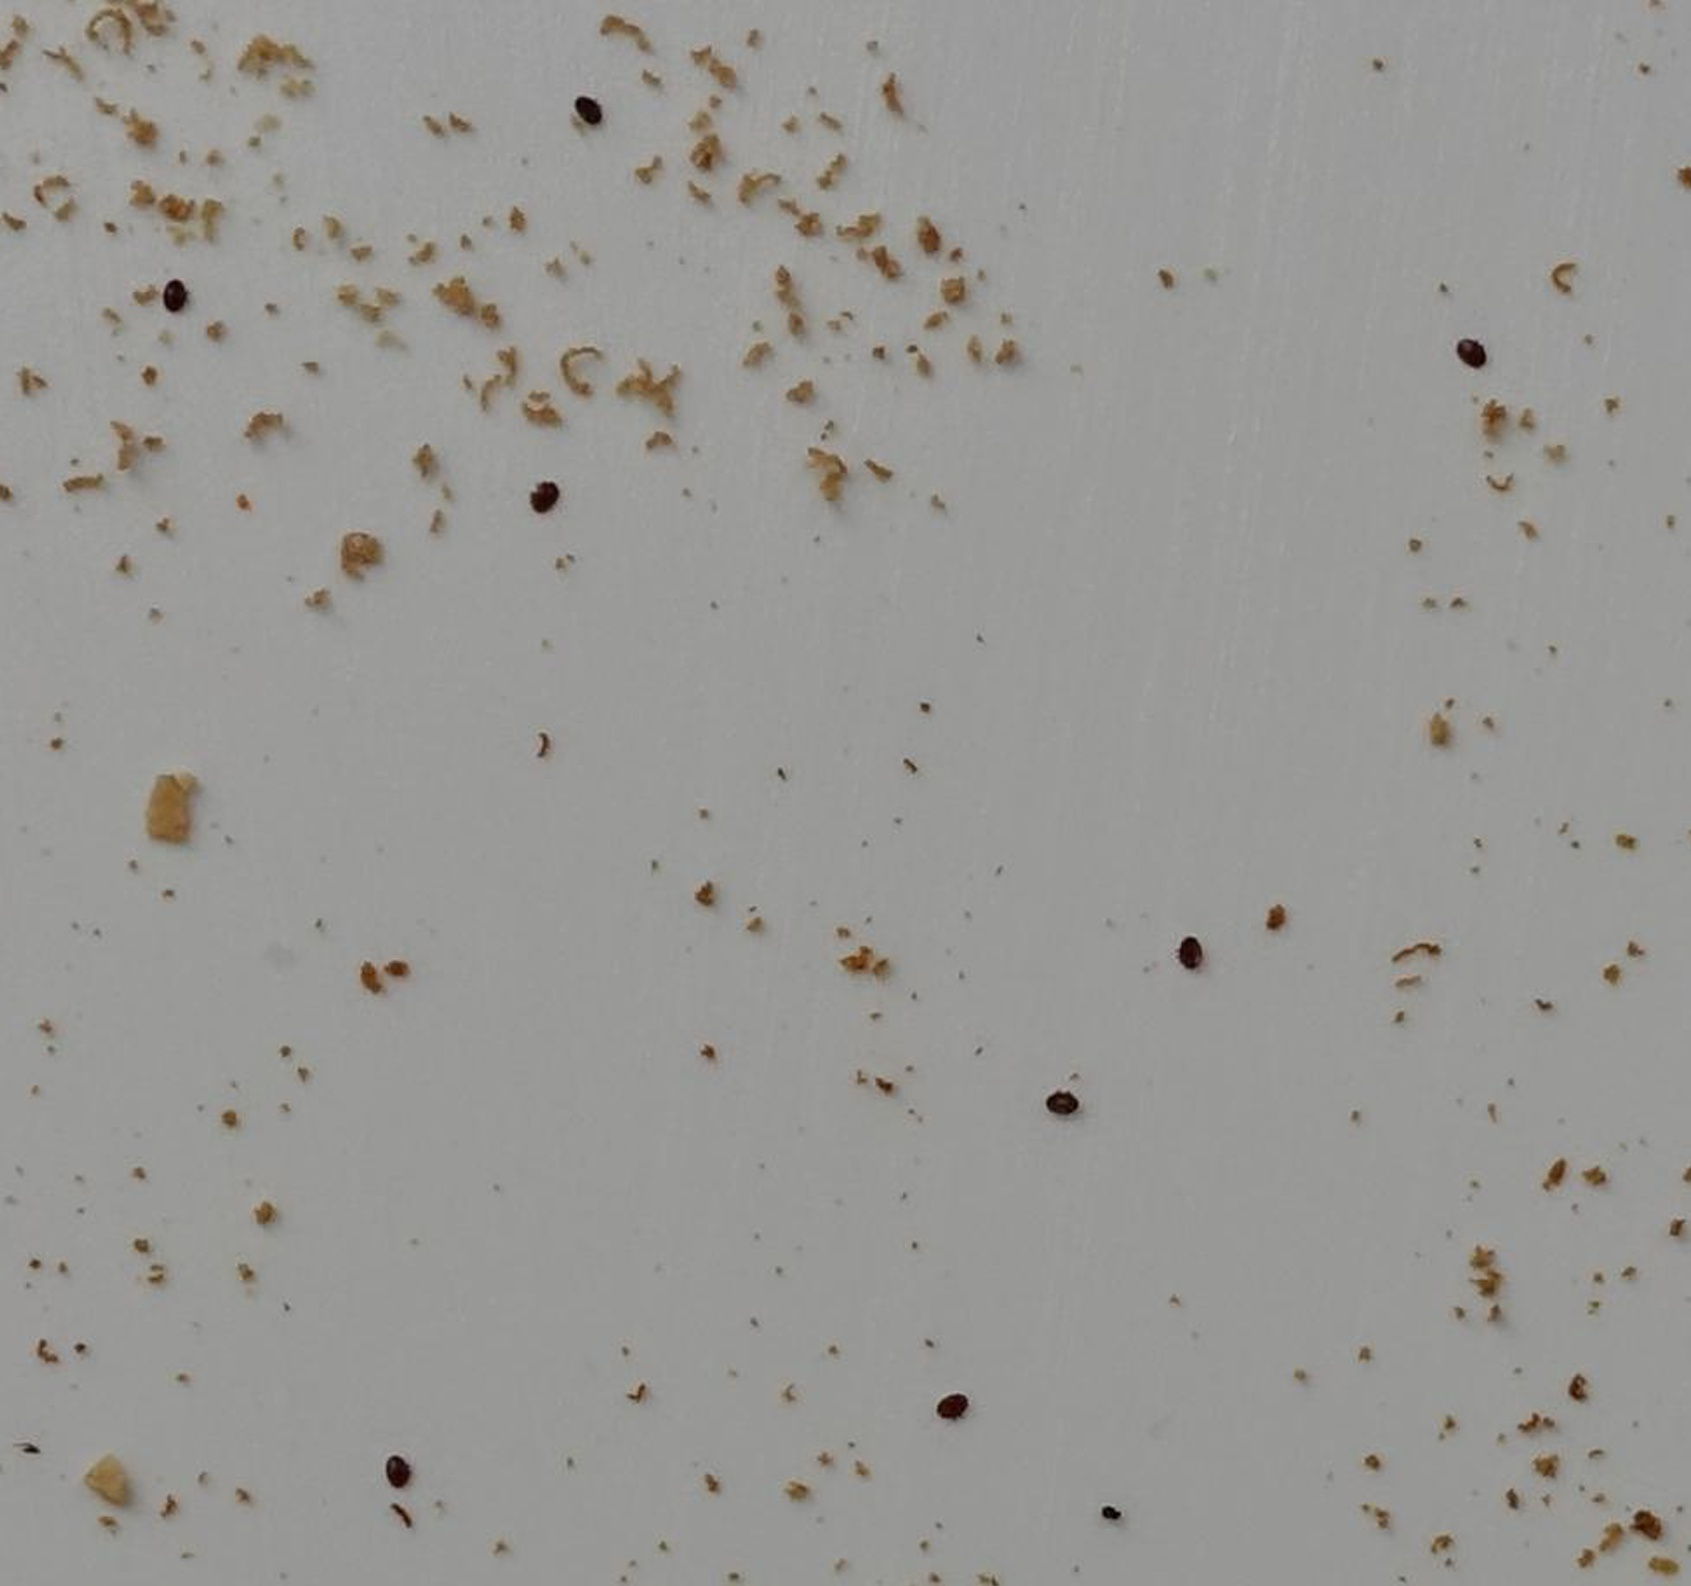Varroa: (1457, 332, 1487, 364), (160, 279, 189, 309), (1047, 1090, 1075, 1118), (1174, 941, 1200, 970), (936, 1391, 963, 1419), (532, 487, 559, 513), (386, 1462, 412, 1489), (574, 95, 599, 122)
